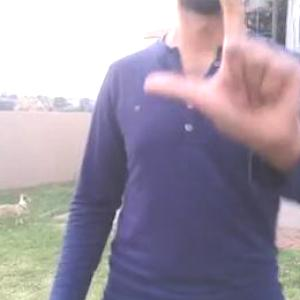land_hand: (137, 0, 300, 164)
